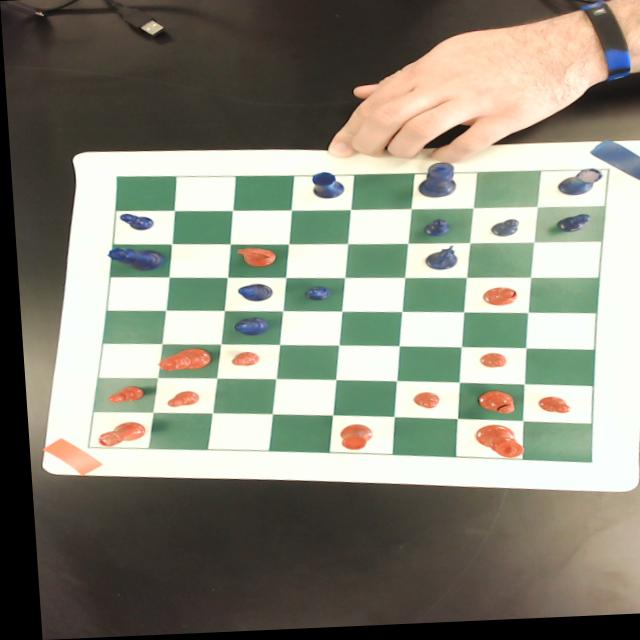B: (232, 285, 271, 304), (228, 318, 267, 337)
K: (413, 166, 457, 201)
N: (420, 248, 458, 274)
P: (553, 218, 589, 237), (116, 212, 151, 231), (486, 222, 517, 241), (419, 222, 450, 239), (300, 288, 327, 304)
Q: (103, 246, 161, 272)
R: (553, 171, 603, 200), (308, 172, 342, 202)
b: (471, 393, 512, 418), (477, 290, 513, 310)
k: (467, 427, 519, 463)
n: (232, 248, 273, 269)
p: (530, 400, 566, 419), (100, 386, 139, 403), (159, 390, 194, 408), (406, 395, 435, 413), (473, 356, 503, 373), (224, 352, 255, 368)
q: (152, 348, 207, 372)
r: (89, 421, 140, 447), (330, 426, 367, 453)
